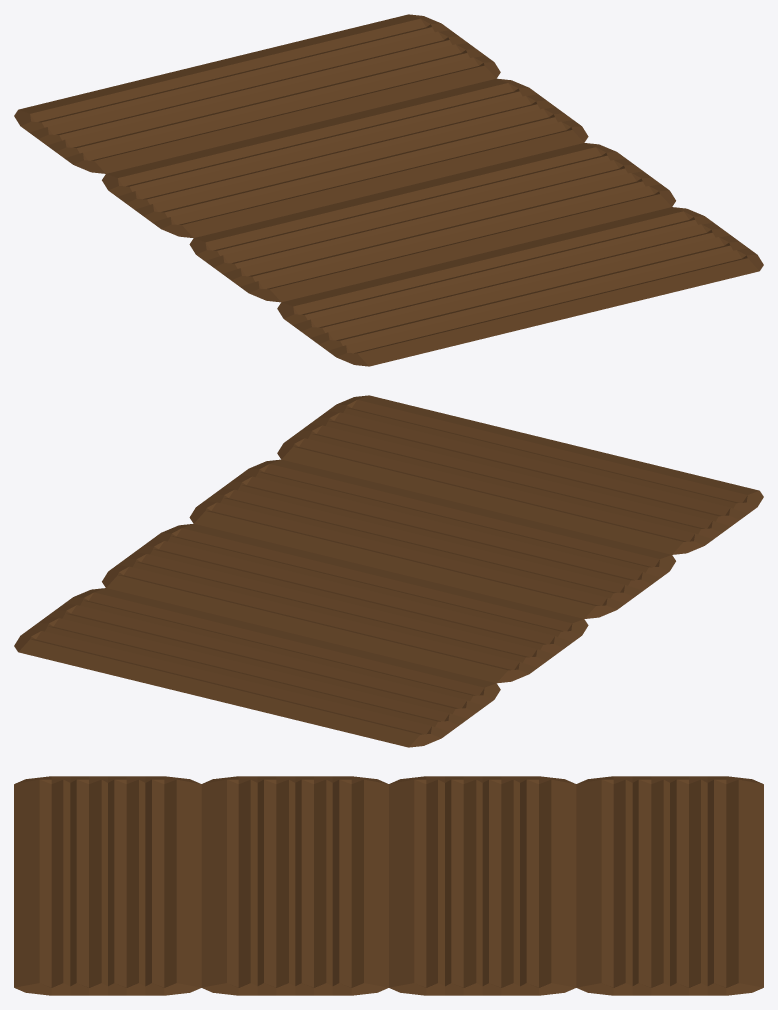
File: clean_soil_land.glb
3 renders of one model, top to bottom at view 1: azimuth 30°, elevation 25°; view 2: azimuth 150°, elevation 25°; view 3: azimuth 270°, elevation 25°, orthographic. The views are drawn at different scales.
Visible parts, largest first — view 1: Soil.002, Soil.003, Soil.001, Soil; view 2: Soil.003, Soil.002, Soil.001, Soil; view 3: Soil.003, Soil.002, Soil.001, Soil.
Part boxes in pixels (x1,y1,x2,y2): Soil.002: [277, 207, 763, 366]; Soil.003: [14, 14, 500, 173]; Soil.001: [102, 78, 588, 237]; Soil: [189, 143, 675, 302]; Soil.003: [14, 588, 500, 747]; Soil.002: [277, 395, 763, 554]; Soil.001: [102, 523, 588, 683]; Soil: [189, 459, 675, 618]; Soil.003: [576, 776, 763, 995]; Soil.002: [14, 776, 201, 995]; Soil.001: [389, 776, 576, 995]; Soil: [201, 776, 388, 995].
Size of the model in its own units: 7.52 by 0.0747 by 10.86.
